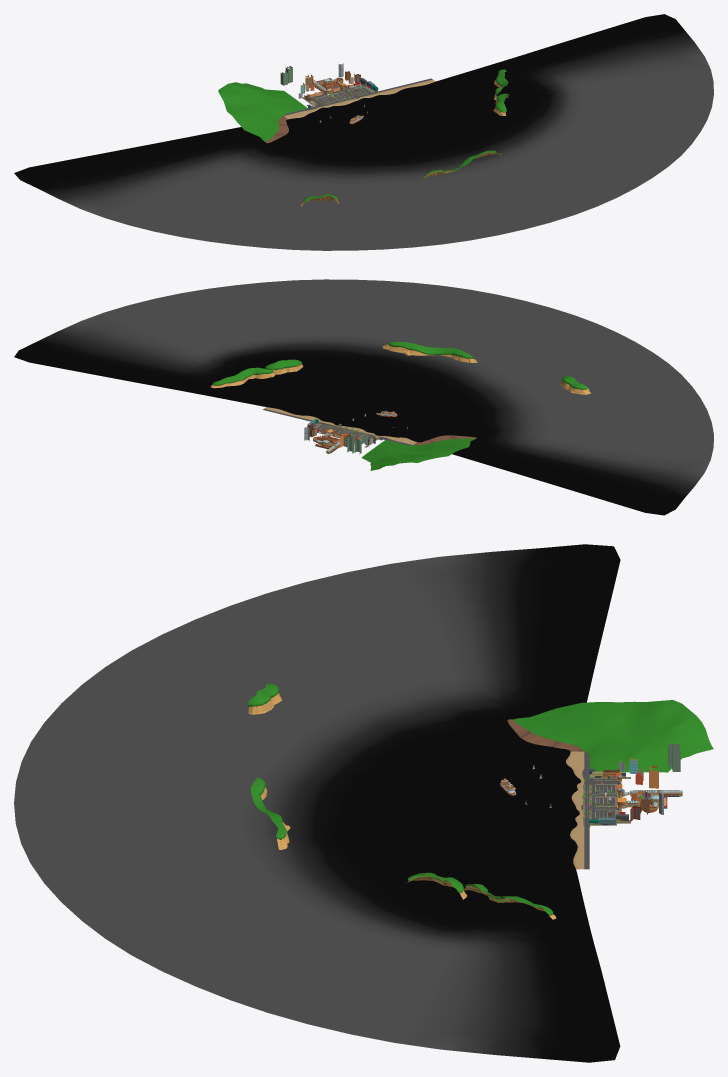
The model's file is Cnsw_14.fbx.
3 views of the same model, one above another, from view 1: azimuth 30°, elevation 25°; view 2: azimuth 150°, elevation 25°; view 3: azimuth 270°, elevation 25° (orthographic). The views are drawn at different scales.
Parts seen in each view (by area): view 1: F_Sea__ef_sea, Lsland_01__M_Cnsw_14_OBJ003, AMPbTop__M_Cnsw_14_Building, road_01_1__M_Cnsw_14_Road_01_Asphalt, F_Beach__M_Cnsw_14_Road_Sand, Floor_010__M_Cnsw_14_Floor; view 2: F_Sea__ef_sea, Lsland_01__M_Cnsw_14_OBJ003, AMPbTop__M_Cnsw_14_Building, road_01_1__M_Cnsw_14_Road_01_Asphalt, F_Beach__M_Cnsw_14_Road_Sand; view 3: F_Sea__ef_sea, Lsland_01__M_Cnsw_14_OBJ003, AMPbTop__M_Cnsw_14_Building, road_01_1__M_Cnsw_14_Road_01_Asphalt, F_Beach__M_Cnsw_14_Road_Sand.
Part boxes in pixels (x1=…): F_Sea__ef_sea: x1=14, y1=14, x2=713, y2=250; Lsland_01__M_Cnsw_14_OBJ003: x1=218, y1=69, x2=509, y2=206; AMPbTop__M_Cnsw_14_Building: x1=280, y1=63, x2=378, y2=108; road_01_1__M_Cnsw_14_Road_01_Asphalt: x1=284, y1=78, x2=432, y2=115; F_Beach__M_Cnsw_14_Road_Sand: x1=284, y1=79, x2=434, y2=119; Floor_010__M_Cnsw_14_Floor: x1=302, y1=84, x2=376, y2=107; F_Sea__ef_sea: x1=14, y1=279, x2=713, y2=515; Lsland_01__M_Cnsw_14_OBJ003: x1=210, y1=342, x2=590, y2=470; AMPbTop__M_Cnsw_14_Building: x1=304, y1=419, x2=385, y2=453; road_01_1__M_Cnsw_14_Road_01_Asphalt: x1=263, y1=408, x2=412, y2=445; F_Beach__M_Cnsw_14_Road_Sand: x1=264, y1=407, x2=417, y2=444; F_Sea__ef_sea: x1=14, y1=544, x2=620, y2=1062; Lsland_01__M_Cnsw_14_OBJ003: x1=247, y1=683, x2=713, y2=919; AMPbTop__M_Cnsw_14_Building: x1=589, y1=744, x2=680, y2=825; road_01_1__M_Cnsw_14_Road_01_Asphalt: x1=582, y1=751, x2=621, y2=869; F_Beach__M_Cnsw_14_Road_Sand: x1=566, y1=751, x2=584, y2=869.
Bounding box in the file's own units: 103680 × 3622 × 59160.
